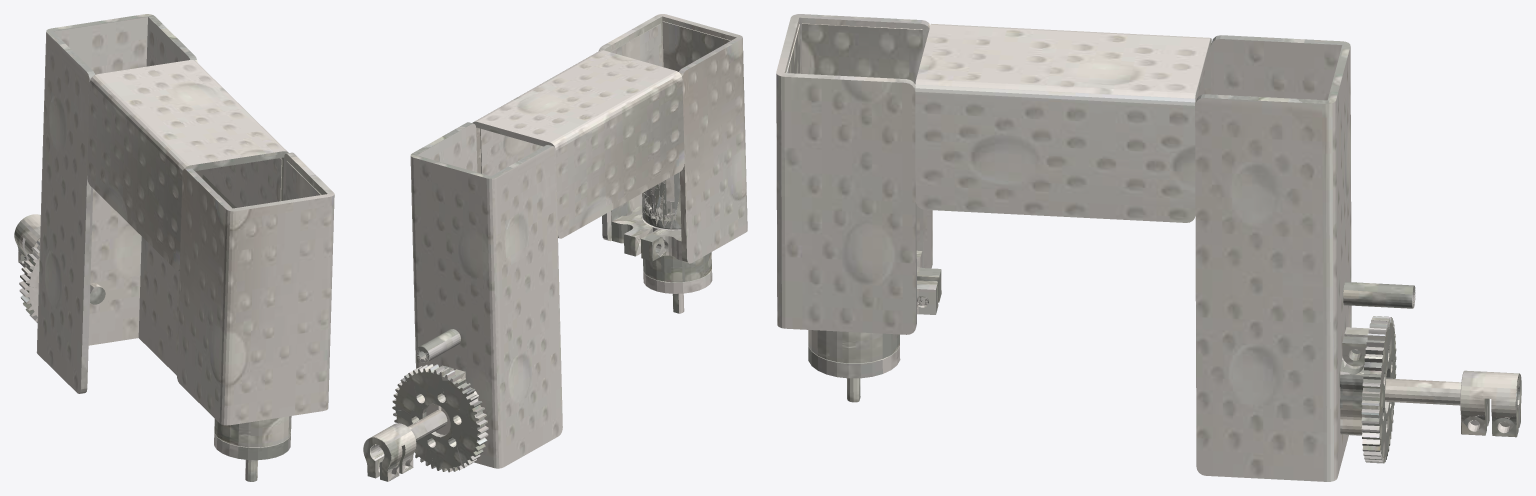
The model's file is corner_rb.dae.
The picture shows the model from 3 angles, left to right: view 1: azimuth 30°, elevation 25°; view 2: azimuth 150°, elevation 25°; view 3: azimuth 270°, elevation 25°; orthographic projection. The views are drawn at different scales.
Parts seen in each view (by area): view 1: corner_rb; view 2: corner_rb; view 3: corner_rb.
Part boxes in pixels (<box>): corner_rb: <box>14,14,334,481</box>; corner_rb: <box>363,14,747,481</box>; corner_rb: <box>776,14,1521,481</box>.
Size of the model in its own units: 0.0574 by 0.2015 by 0.1156.
1 material, 1 textured.
